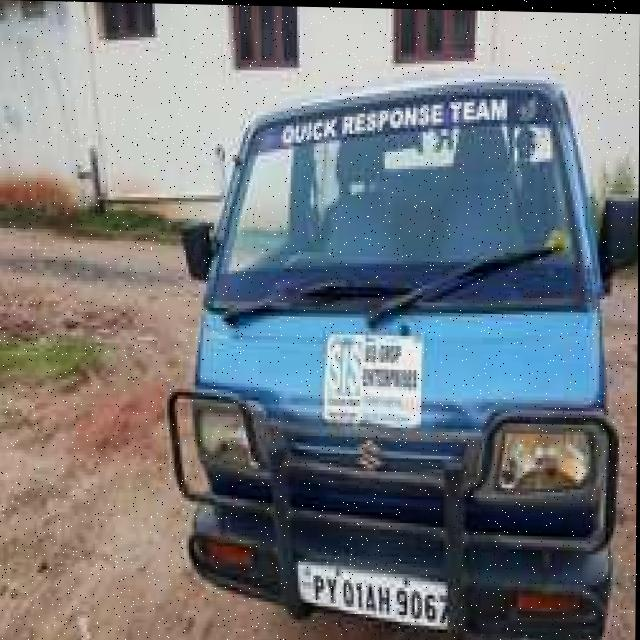plate: (298, 560, 453, 630)
